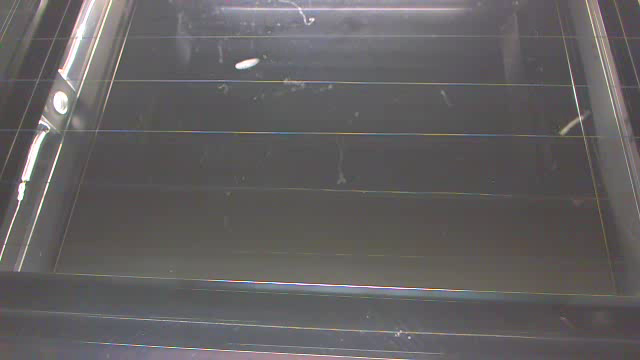alpha: (556, 115, 584, 140), (230, 56, 267, 71)
